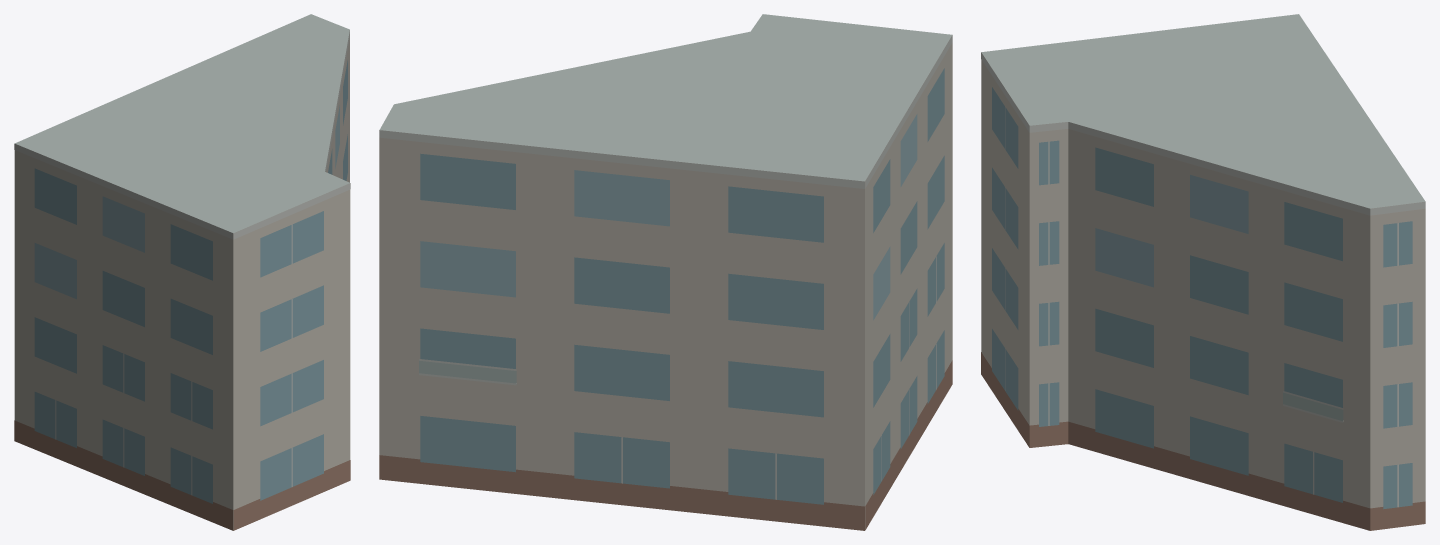
File: survey-upis-32498992.glb
3 renders of one model, left to right at view 1: azimuth 30°, elevation 25°; view 2: azimuth 150°, elevation 25°; view 3: azimuth 270°, elevation 25°, orthographic. The views are drawn at different scales.
Visible parts, largest first — view 1: survey-upis-32498992.tmp; view 2: survey-upis-32498992.tmp; view 3: survey-upis-32498992.tmp.
Part boxes in pixels (x1=…): survey-upis-32498992.tmp: x1=14, y1=14, x2=350, y2=530; survey-upis-32498992.tmp: x1=379, y1=14, x2=952, y2=530; survey-upis-32498992.tmp: x1=981, y1=14, x2=1425, y2=530.
Size of the model in its own units: 14.52 by 11.2 by 14.01.
